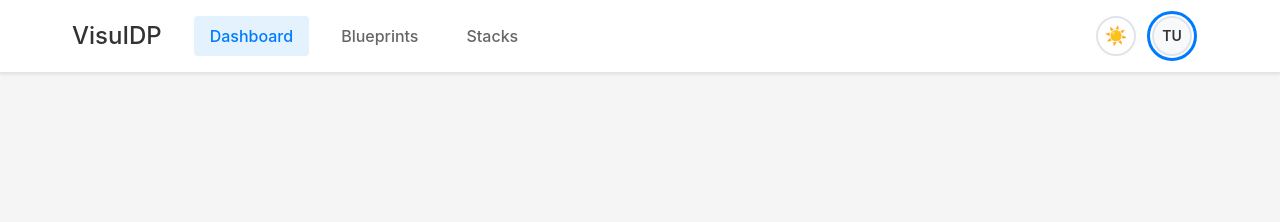
Test: Header Integration Tests › Navigation to API Keys from profile dropdown › should navigate to /api-keys when Personal API Keys is clicked
// Open dropdown
Click the button with aria-label "User profile menu": (1172, 36) [1152,16,1192,56]
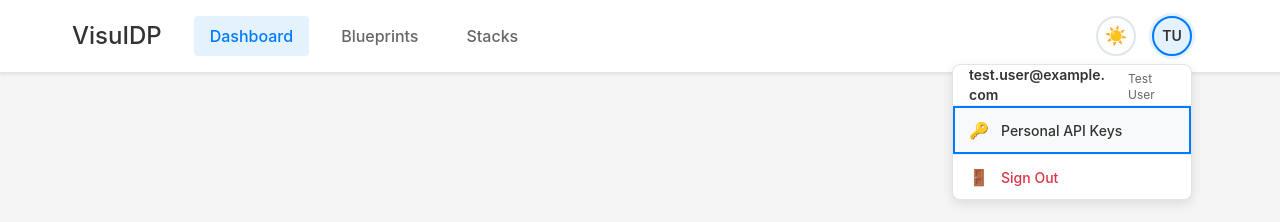
Now the menu is shown, box [952,64,1192,200]
Click the text "Personal API Keys": (1062, 130) [1001,122,1122,138]
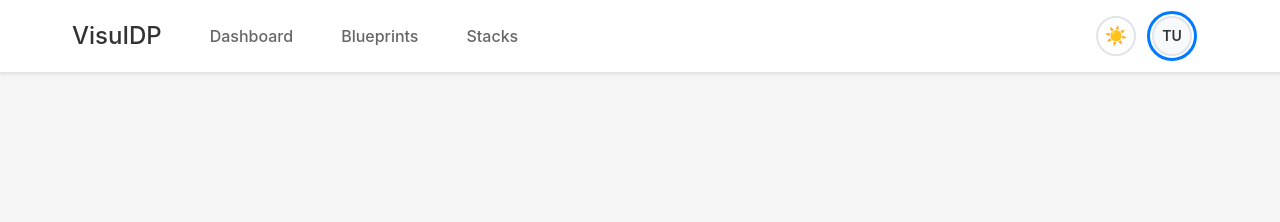
Now the menu is gone
